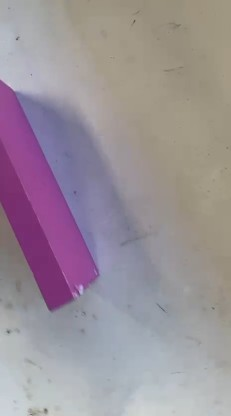pink: (0, 73, 107, 307)
